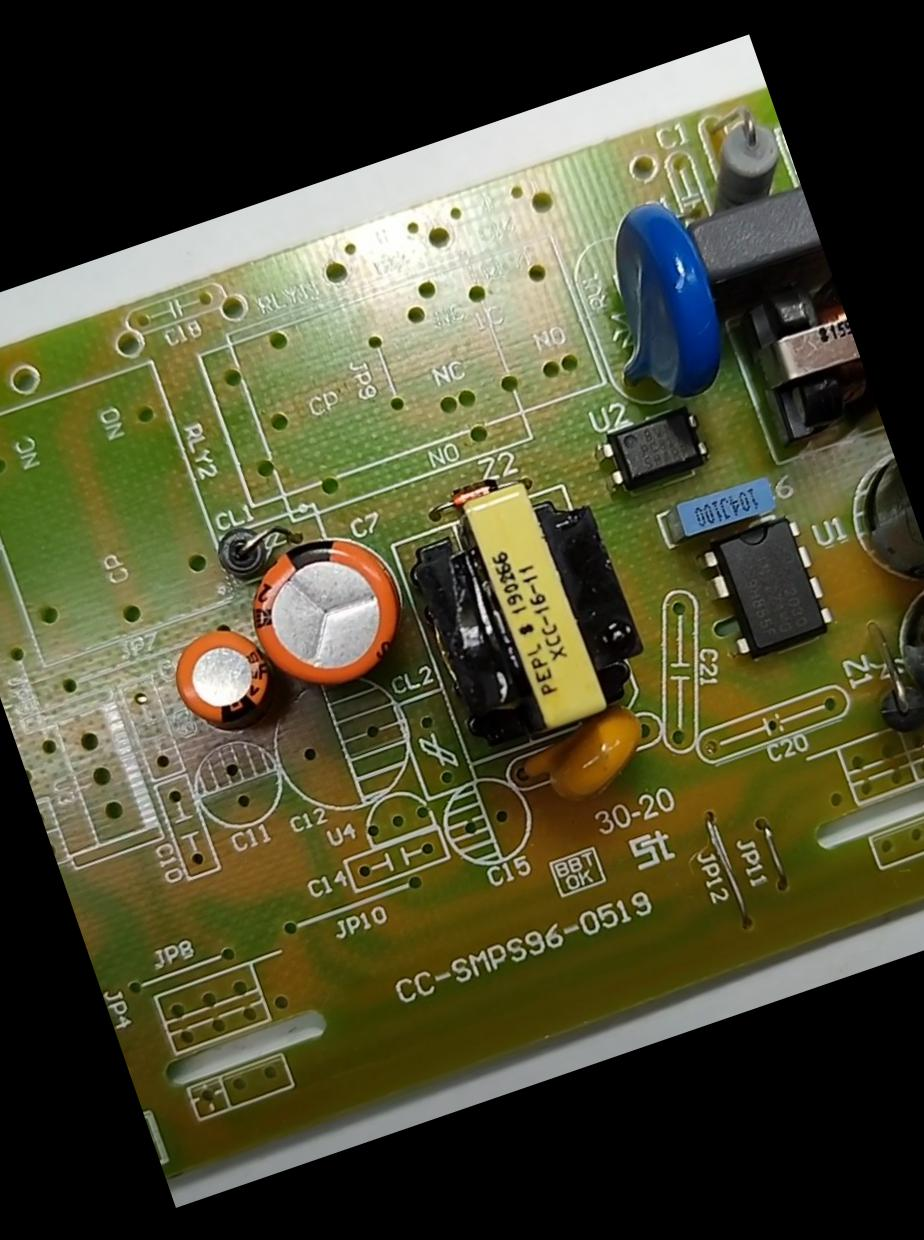Cap1: (224, 512, 424, 712)
Cap2: (152, 608, 288, 748)
Cap3: (834, 423, 923, 607)
Cap4: (866, 576, 923, 771)
MOSFET: (692, 502, 846, 670)
Mov: (558, 186, 742, 424)
Resistor: (686, 102, 803, 224)
Transformer: (385, 447, 677, 774), (722, 268, 882, 460)
